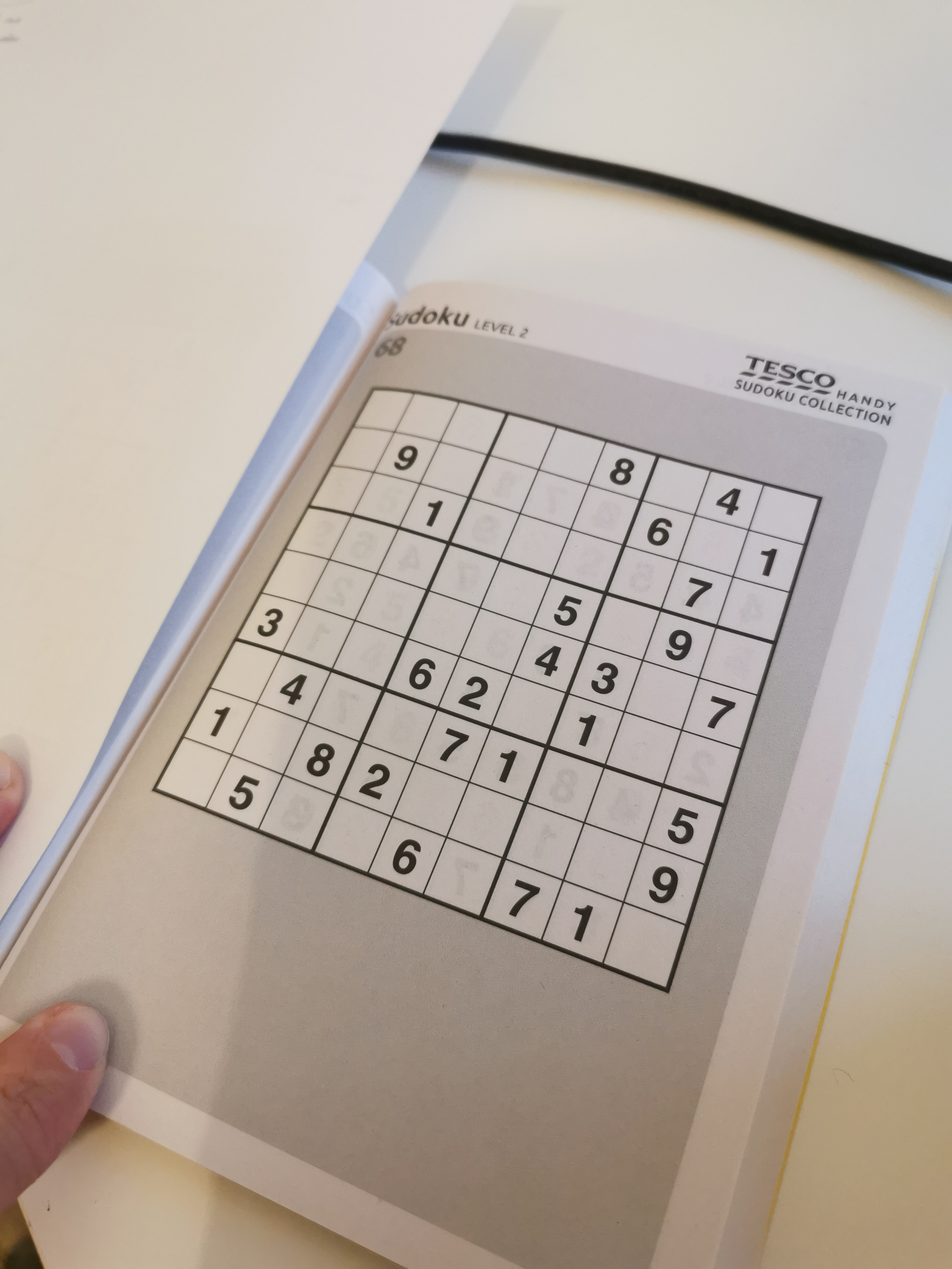sudoku: (137, 364, 855, 1013)
